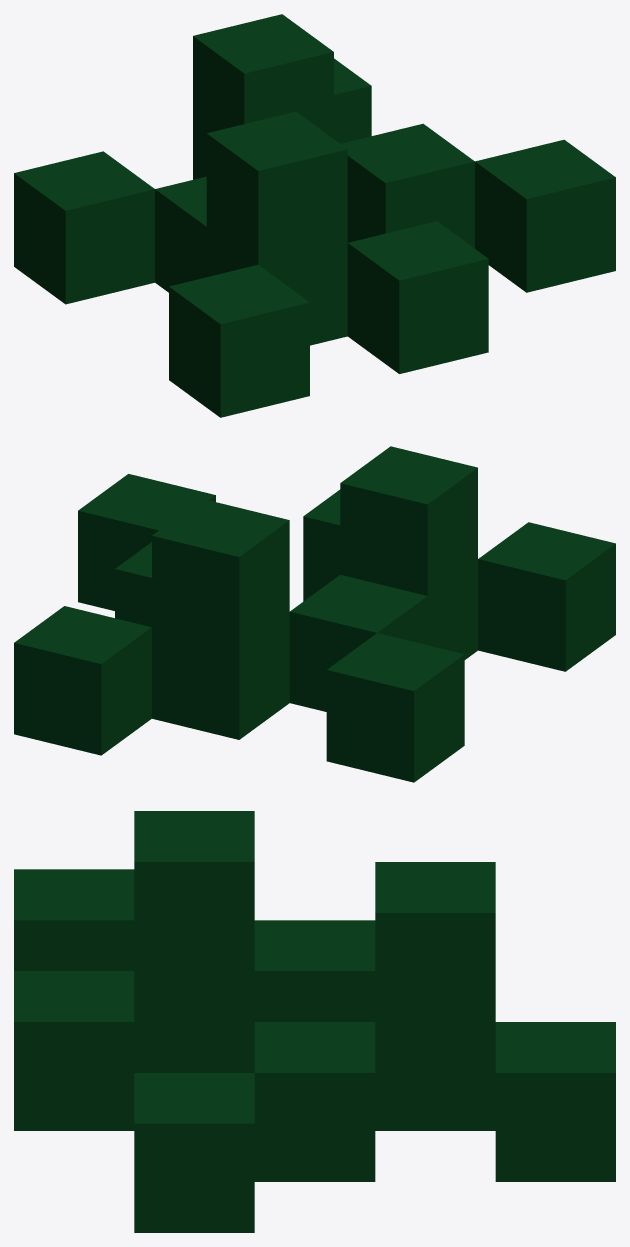
Rendered from GrassPiece8.fbx.
3 views of the same model, one above another, from view 1: azimuth 30°, elevation 25°; view 2: azimuth 150°, elevation 25°; view 3: azimuth 270°, elevation 25° (orthographic). The views are drawn at different scales.
Parts seen in each view (by area): view 1: Matrix_Piece1_0_0_Piece1_0_1; view 2: Matrix_Piece1_0_0_Piece1_0_1; view 3: Matrix_Piece1_0_0_Piece1_0_1.
Boxes of the visible parts, x1=… form: Matrix_Piece1_0_0_Piece1_0_1: x1=14, y1=14, x2=615, y2=417; Matrix_Piece1_0_0_Piece1_0_1: x1=14, y1=446, x2=615, y2=782; Matrix_Piece1_0_0_Piece1_0_1: x1=14, y1=811, x2=615, y2=1232.
Size of the model in its own units: 5 by 2 by 5.
1 material, 1 textured.
